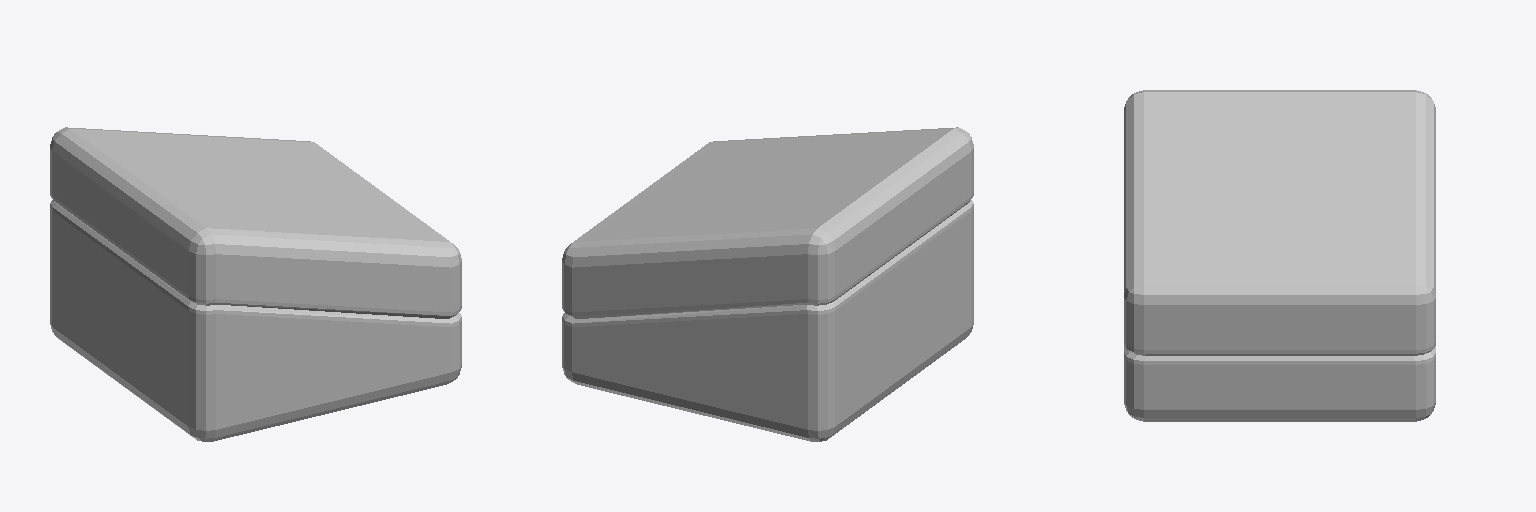
Rendered from tileSlopeLowMedium_teamBlue.obj.
3 views of the same model, side by side, from view 1: azimuth 30°, elevation 25°; view 2: azimuth 150°, elevation 25°; view 3: azimuth 270°, elevation 25° (orthographic).
Visible parts, largest first — view 1: tileSlopeLowMedium_teamBlue_Cube.035; view 2: tileSlopeLowMedium_teamBlue_Cube.035; view 3: tileSlopeLowMedium_teamBlue_Cube.035.
Part boxes in pixels (bbox=[...]): tileSlopeLowMedium_teamBlue_Cube.035: bbox=[50, 127, 461, 441]; tileSlopeLowMedium_teamBlue_Cube.035: bbox=[562, 127, 973, 441]; tileSlopeLowMedium_teamBlue_Cube.035: bbox=[1124, 90, 1435, 421].
Size of the model in its own units: 2 by 1.5 by 2.